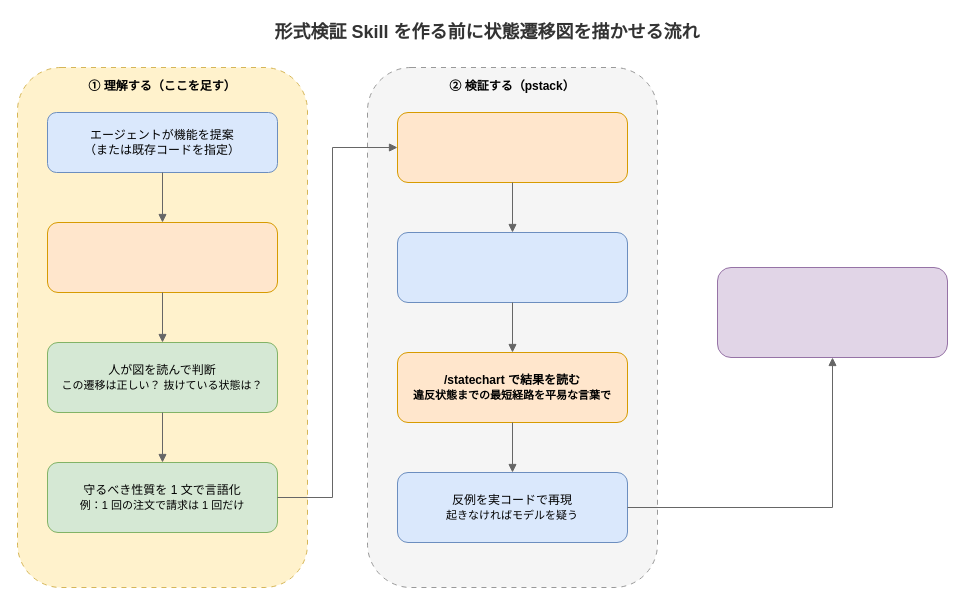
Some shapes in this 965 by 605 pixel diagram are drawn without their labels. The centre of each missing label's shape, as x and y in pixels:
/create-formal-verification-skill 性質 1 つを TLA+ などで検証: point 512,147
プロジェクト専用の 検証 Skill 変更のたびに 1 コマンドで再検査: point 832,312
壊したコードで失敗することを確認 チェックを外す・順序を入れ替える: point 512,267
状態遷移図（statechart）を描かせる 状態はユーザーに見える言葉で: point 162,257
